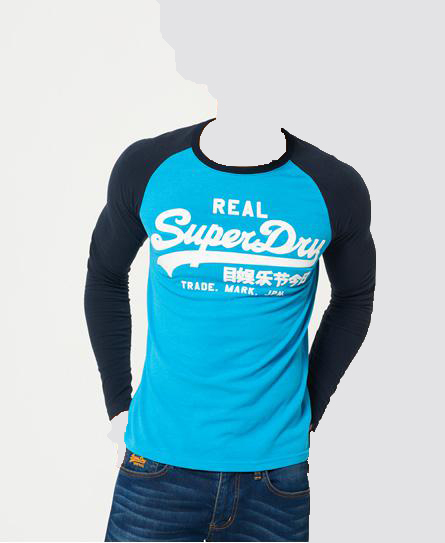teeshirt: (82, 116, 382, 471)
